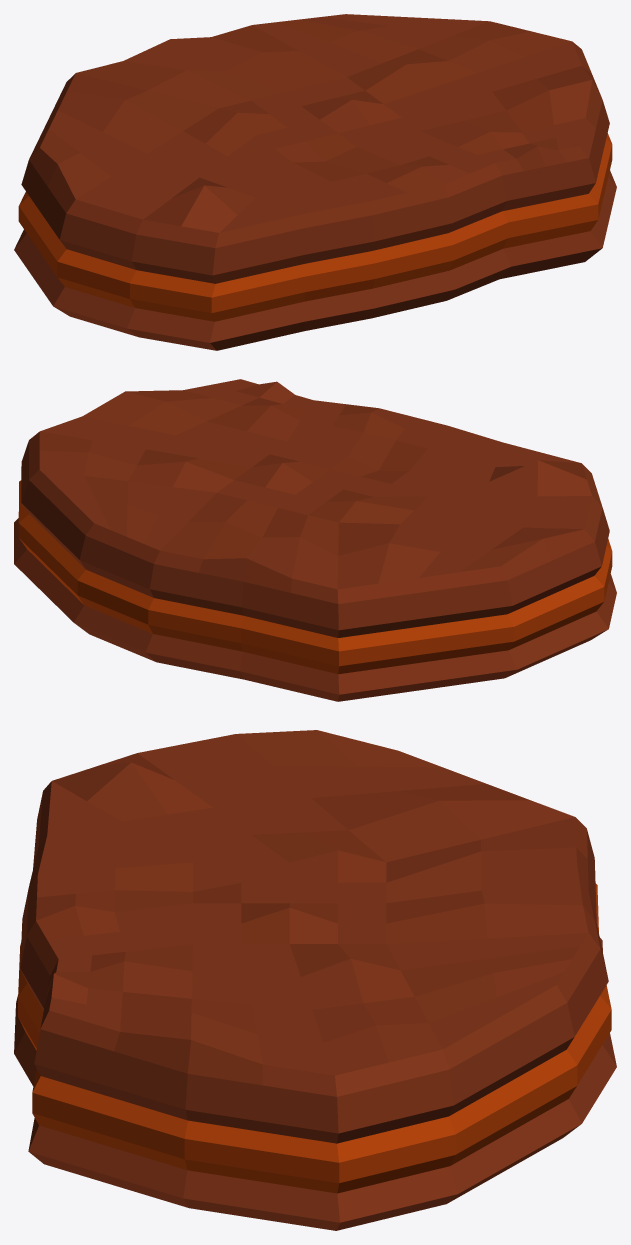
The model's file is Steak.fbx.
The picture shows the model from 3 angles, top to bottom: view 1: azimuth 30°, elevation 25°; view 2: azimuth 150°, elevation 25°; view 3: azimuth 270°, elevation 25°; orthographic projection. The views are drawn at different scales.
Visible parts, largest first — view 1: steak; view 2: steak; view 3: steak.
Part boxes in pixels (left/top/right/bottom): steak: left=14, top=14, right=616, bottom=350; steak: left=14, top=379, right=616, bottom=701; steak: left=14, top=730, right=616, bottom=1230.
Size of the model in its own units: 418 by 93.91 by 286.
